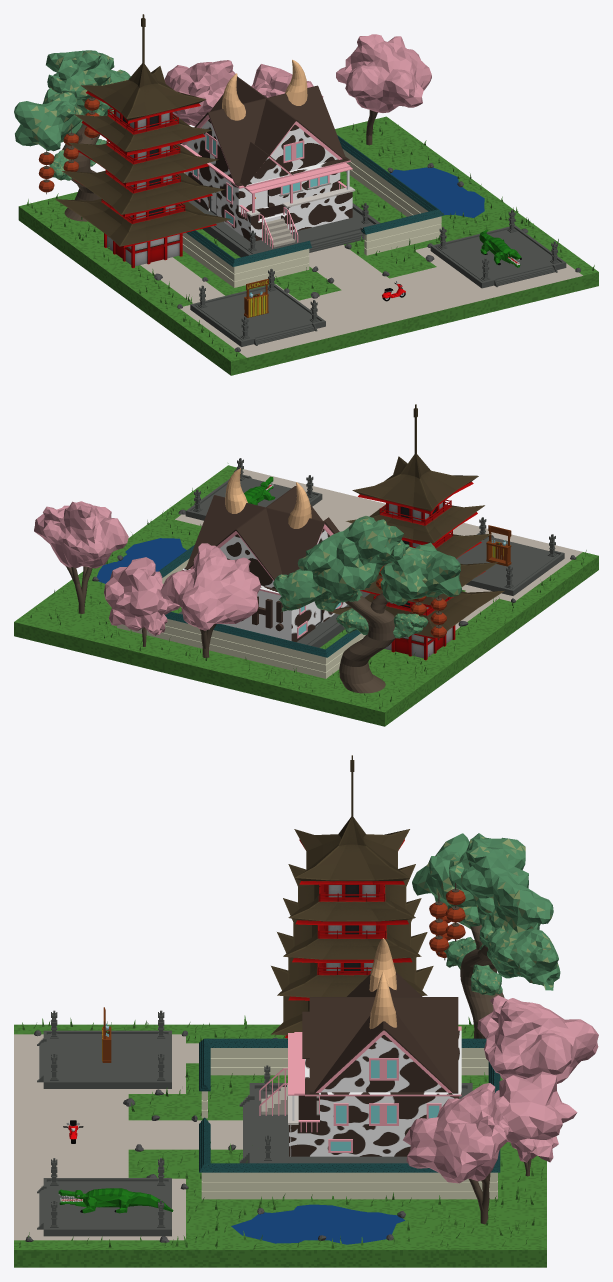
3 views of the same model, one above another, from view 1: azimuth 30°, elevation 25°; view 2: azimuth 150°, elevation 25°; view 3: azimuth 270°, elevation 25° (orthographic). The views are drawn at different scales.
Visible parts, largest first — view 1: Cube.005, Cube.1242, ANIMAL_COCODRILO, OBJRANDOM_LEMONADE_STAND; view 2: Cube.005, Cube.1242, OBJRANDOM_LEMONADE_STAND, ANIMAL_COCODRILO; view 3: Cube.005, Cube.1242, ANIMAL_COCODRILO.
Part boxes in pixels (x1,y1,x2,y2): Cube.005: [14, 14, 598, 375]; Cube.1242: [179, 59, 355, 248]; ANIMAL_COCODRILO: [479, 229, 521, 267]; OBJRANDOM_LEMONADE_STAND: [244, 278, 268, 317]; Cube.005: [14, 404, 598, 726]; Cube.1242: [181, 468, 347, 642]; OBJRANDOM_LEMONADE_STAND: [486, 525, 511, 566]; ANIMAL_COCODRILO: [244, 476, 275, 505]; Cube.005: [14, 755, 598, 1267]; Cube.1242: [259, 938, 461, 1156]; ANIMAL_COCODRILO: [58, 1188, 173, 1213].
Size of the model in its own units: 4528 by 2690 by 4389.
Materials: 51 (5 with a texture image).
